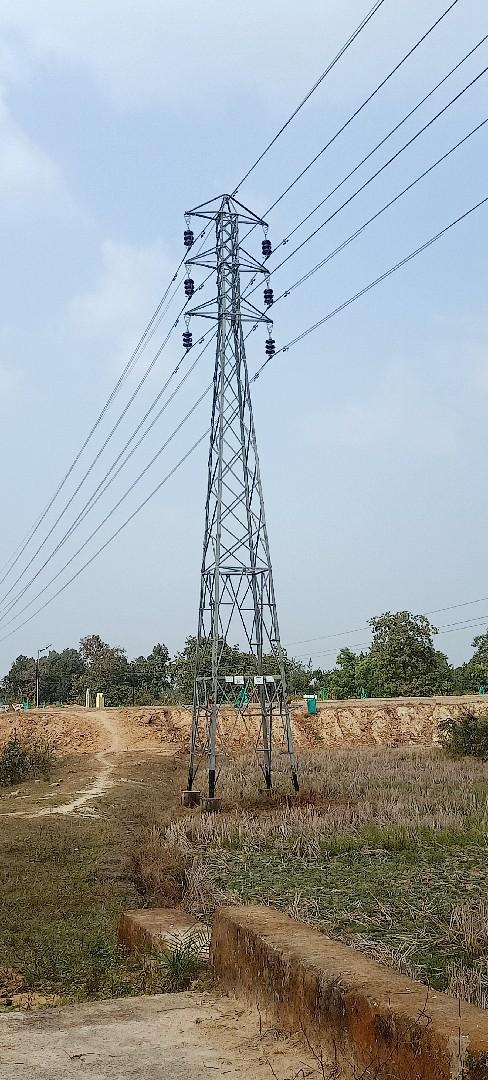GSM Antenna: (179, 190, 301, 762)
